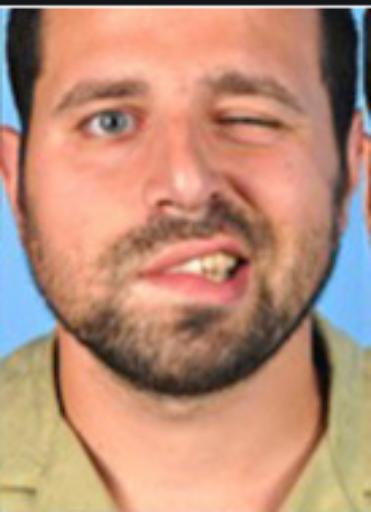left_eye: (212, 106, 292, 140)
left_lip_corner: (229, 245, 272, 282)
right_eye: (71, 106, 145, 138)
right_lip_corner: (125, 249, 166, 290)
